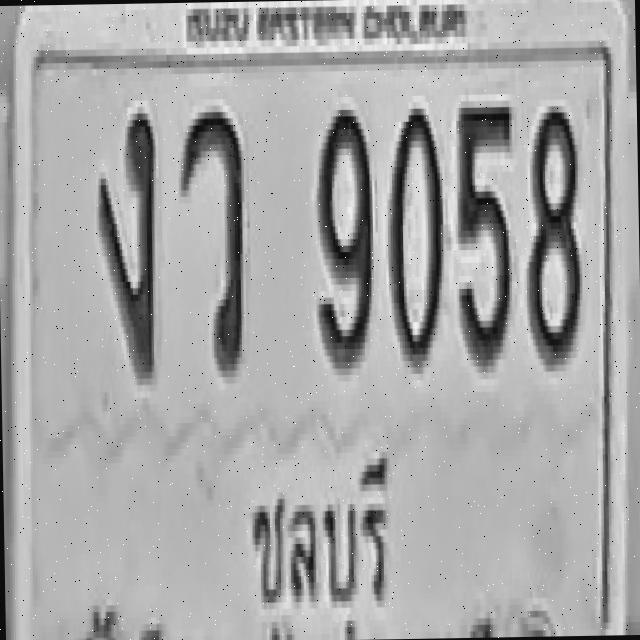0: (385, 101, 445, 368)
16NgorNgu: (96, 106, 158, 378)
46WorWaen: (178, 105, 246, 371)
5: (454, 100, 516, 366)
8: (524, 99, 582, 365)
9: (314, 102, 374, 368)
Chonburi: (234, 426, 399, 626)
